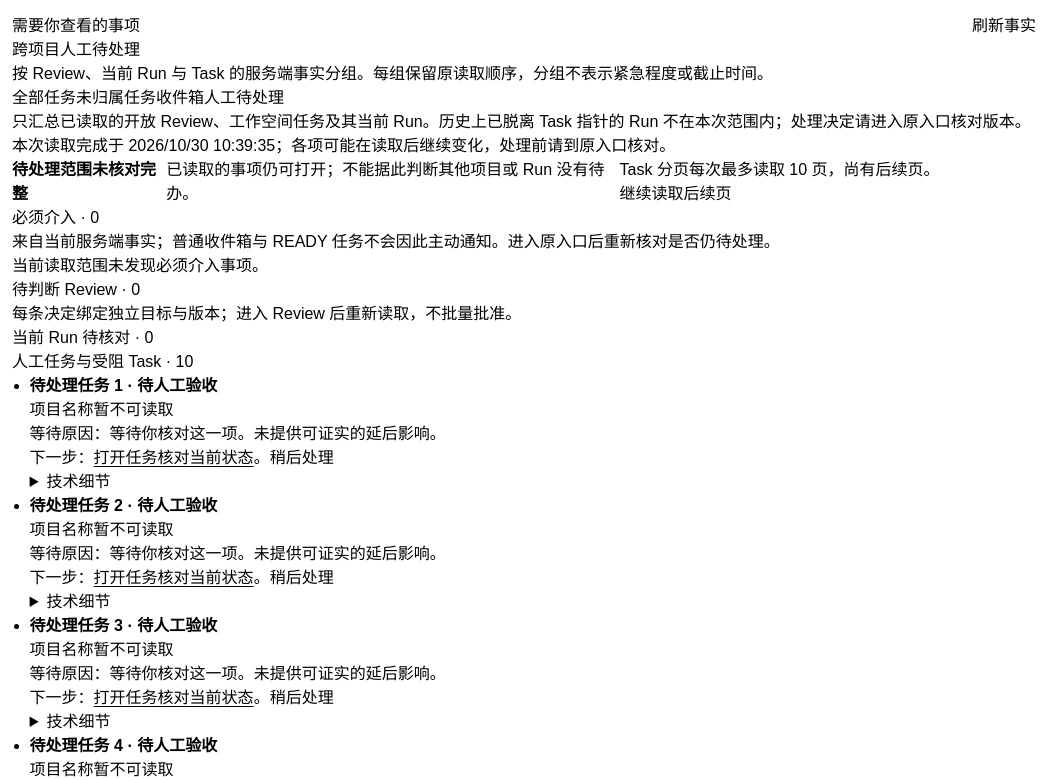
人工待处理队列的续页恢复（禅道 #131） › 服务恢复后按原游标重试这一页，不重读前 10 页
This screenshot has width=1048, height=780.
Click the button with test id "attention-continue-pages": (676, 192) [620, 180, 732, 204]
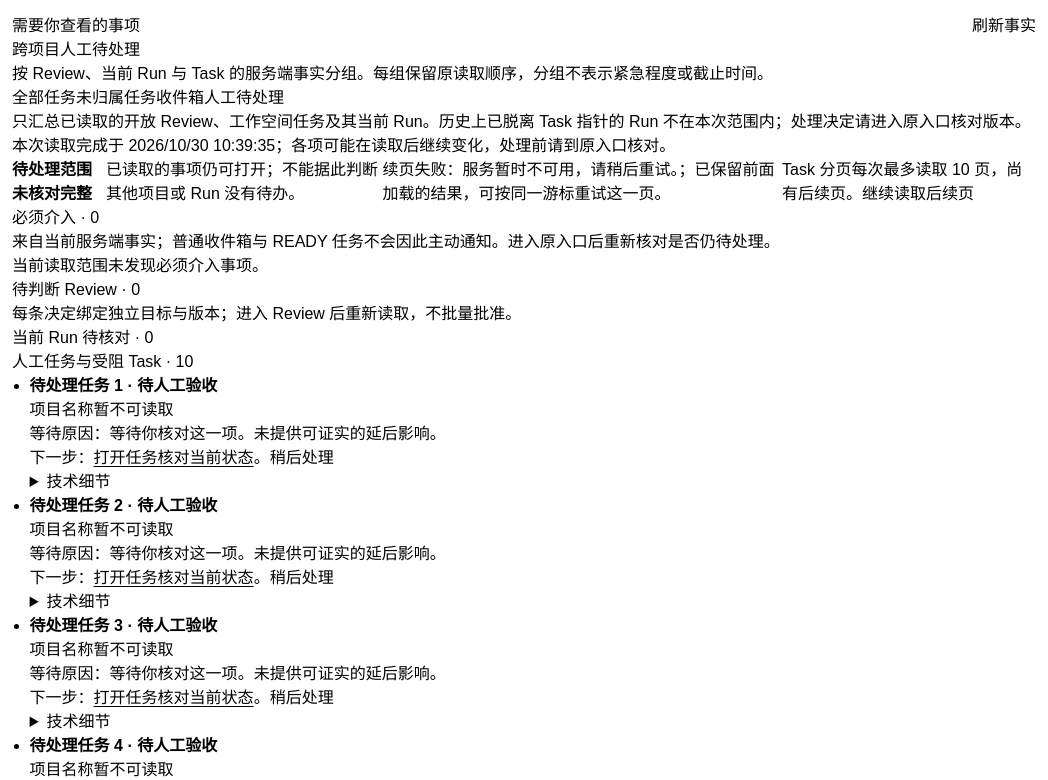
Click the button with test id "attention-continue-pages": (918, 192) [862, 180, 974, 204]
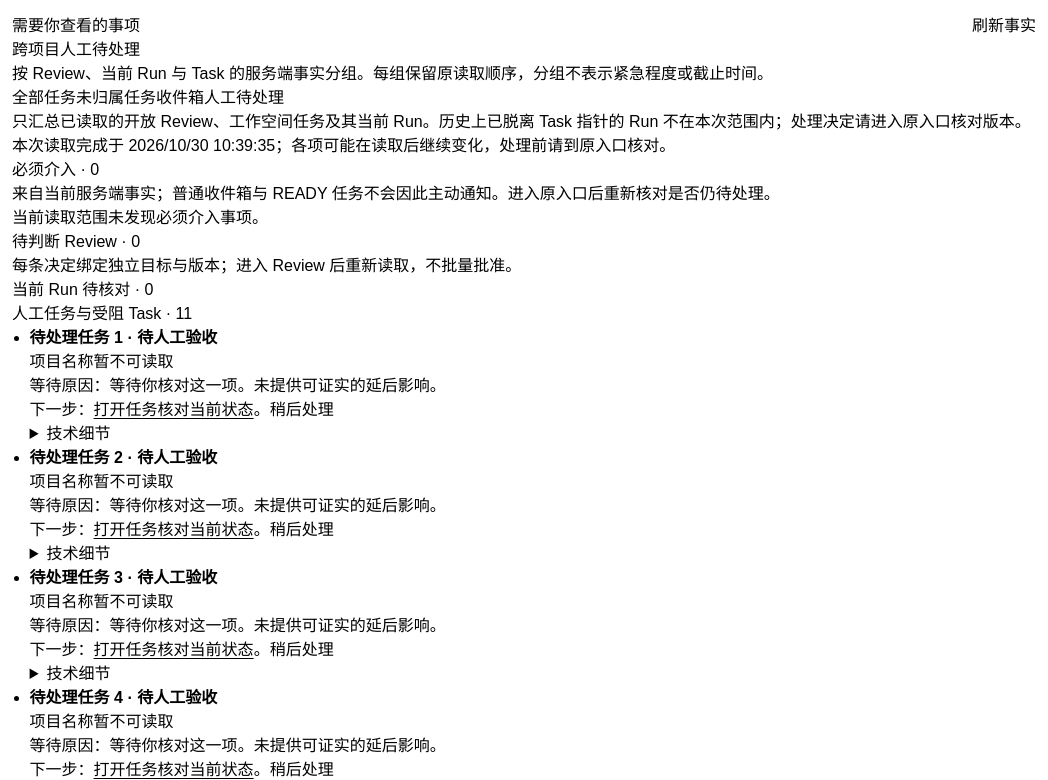
Result: the text "服务暂时不可用" is gone
Result: the message with test id "attention-incomplete" is gone
